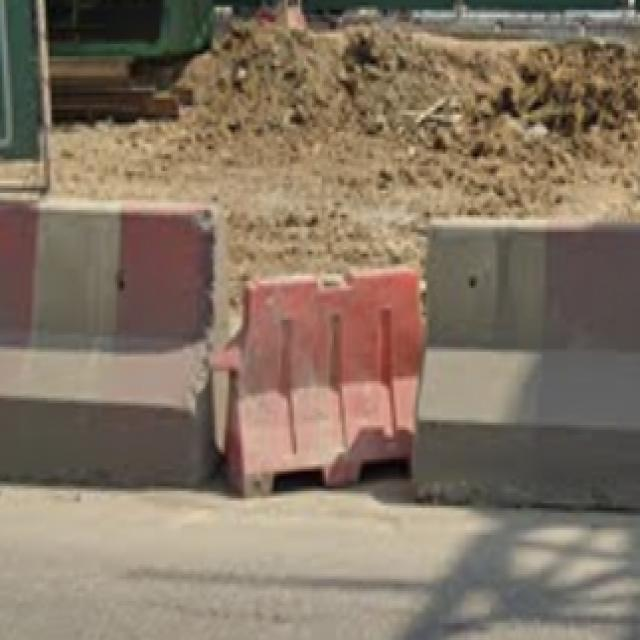fallen_object: (380, 192, 640, 532), (0, 174, 241, 515), (212, 276, 435, 493)
